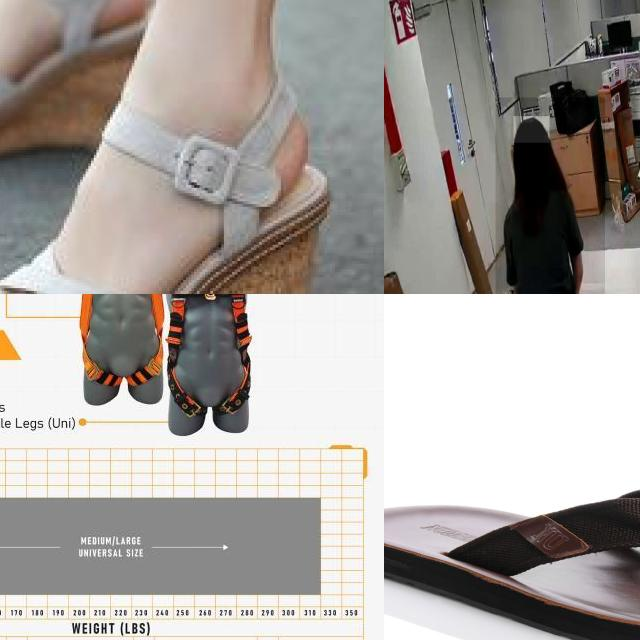Harness: (168, 294, 252, 432), (80, 294, 123, 386), (144, 349, 162, 376)
Sandals: (0, 68, 333, 294), (384, 486, 640, 640)
head_nohelmet: (514, 116, 550, 144)
person: (495, 97, 605, 294)
